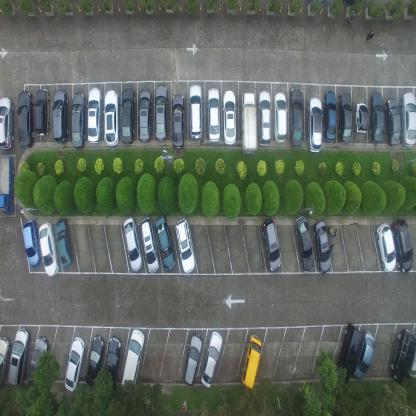car: (334, 323, 363, 384), (120, 327, 145, 394), (390, 328, 416, 384), (7, 326, 30, 388), (201, 331, 224, 388), (390, 217, 413, 273), (294, 214, 315, 274), (122, 216, 144, 273), (64, 335, 86, 392), (26, 336, 50, 388), (154, 214, 176, 270), (38, 222, 60, 278), (174, 217, 195, 274), (182, 333, 204, 386), (242, 333, 263, 388), (240, 91, 258, 155), (262, 216, 282, 272), (140, 216, 160, 272), (103, 335, 122, 391), (354, 332, 376, 380), (376, 221, 396, 272), (0, 152, 16, 215), (85, 334, 104, 387), (288, 86, 304, 148), (55, 219, 74, 270), (18, 89, 34, 149), (22, 219, 42, 267), (102, 90, 119, 146), (314, 219, 331, 274), (400, 90, 416, 148), (221, 89, 237, 146), (188, 83, 204, 140), (153, 82, 168, 142), (120, 85, 135, 145), (52, 87, 68, 143), (87, 85, 102, 144), (71, 90, 86, 149), (307, 95, 322, 153), (384, 97, 401, 147), (137, 87, 152, 143), (34, 86, 50, 137), (171, 92, 185, 150), (0, 96, 15, 150), (258, 90, 272, 146), (207, 87, 221, 143), (369, 92, 384, 144), (338, 90, 352, 145), (273, 92, 287, 144), (323, 90, 336, 142), (0, 336, 12, 392), (354, 102, 369, 135)
